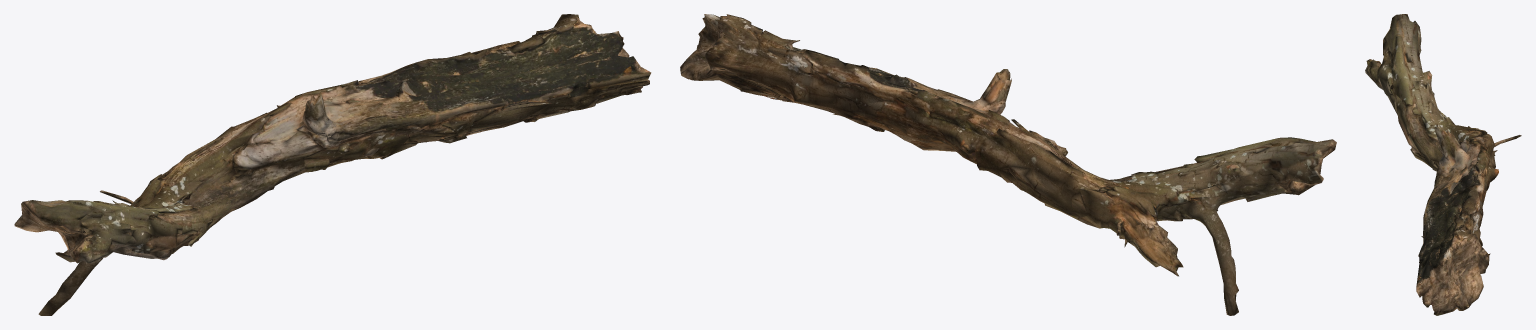
The model's file is dead_tree_trunk_02_lod.glb.
The picture shows the model from 3 angles, left to right: view 1: azimuth 30°, elevation 25°; view 2: azimuth 150°, elevation 25°; view 3: azimuth 270°, elevation 25°; orthographic projection. The views are drawn at different scales.
Visible parts, largest first — view 1: dead_tree_trunk_02; view 2: dead_tree_trunk_02; view 3: dead_tree_trunk_02.
Boxes of the visible parts, x1,y1,x2,y2 form: dead_tree_trunk_02: (14, 14, 651, 315); dead_tree_trunk_02: (680, 14, 1336, 315); dead_tree_trunk_02: (1365, 14, 1521, 315).
Bounding box in the file's own units: 4.05 × 1.05 × 1.05.
Materials: 1 (1 with a texture image).
